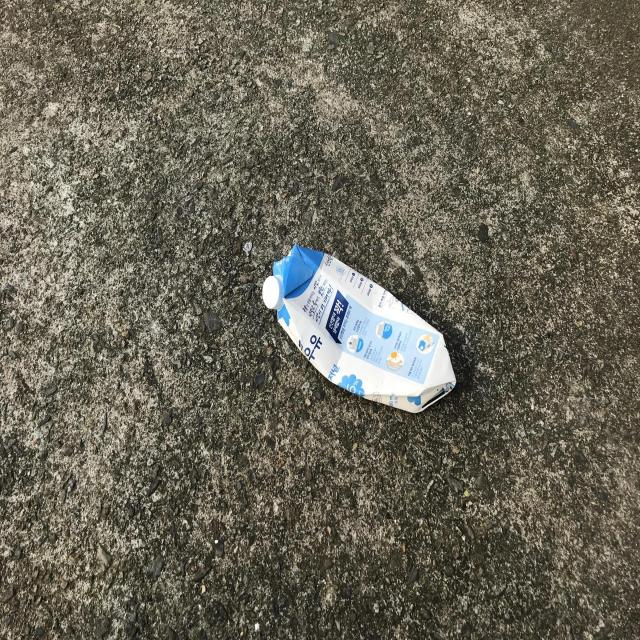paperpack: (262, 244, 457, 413)
